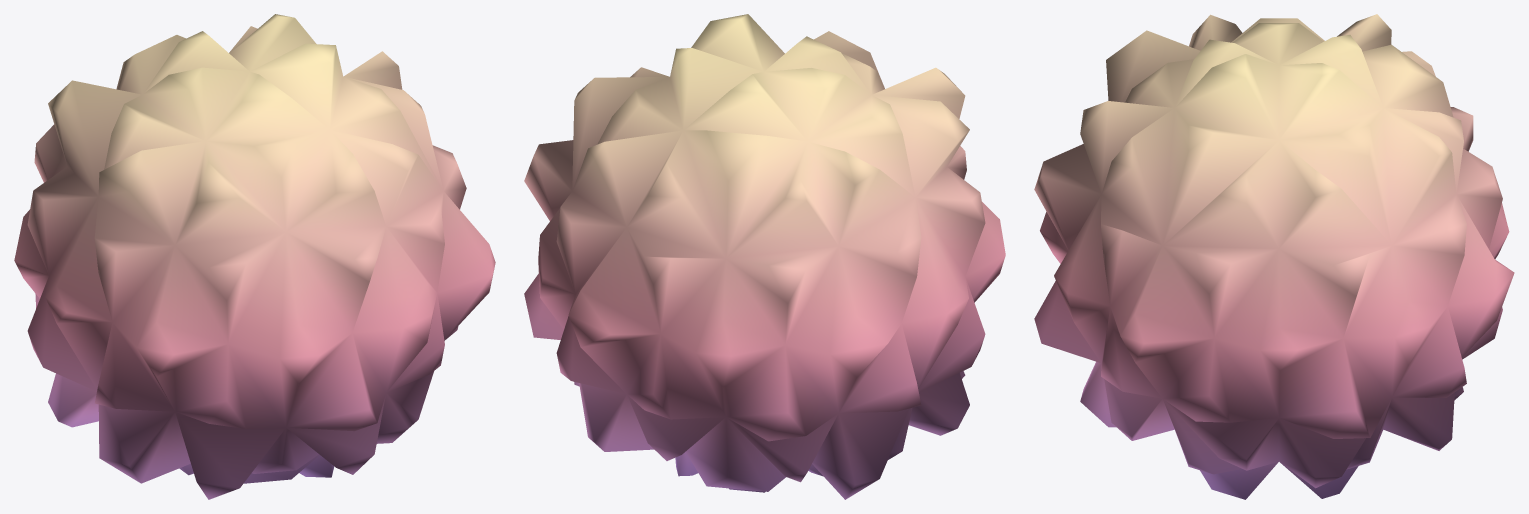
Rendered from W2_OBSTACLE_2.fbx.
3 renders of one model, left to right at view 1: azimuth 30°, elevation 25°; view 2: azimuth 150°, elevation 25°; view 3: azimuth 270°, elevation 25°, orthographic.
Parts seen in each view (by area): view 1: W2_OBSTACLE_2; view 2: W2_OBSTACLE_2; view 3: W2_OBSTACLE_2.
Boxes of the visible parts, x1,y1,x2,y2 form: W2_OBSTACLE_2: (14, 14, 495, 499); W2_OBSTACLE_2: (524, 14, 1005, 499); W2_OBSTACLE_2: (1034, 14, 1514, 499).
Size of the model in its own units: 457 by 479 by 474.
